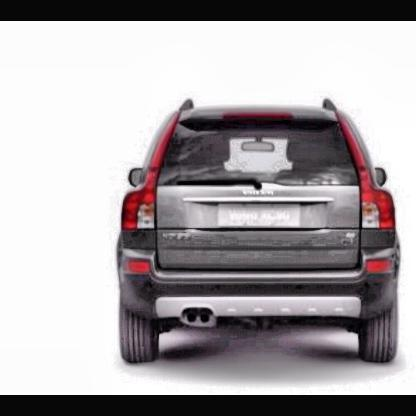Volvo XC90 SUV 2007: (115, 98, 407, 366)
